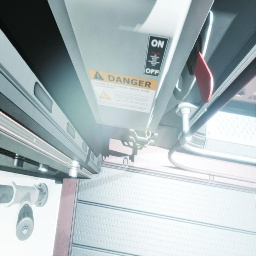SafetySwitchPanel ,: (47, 0, 214, 138)
